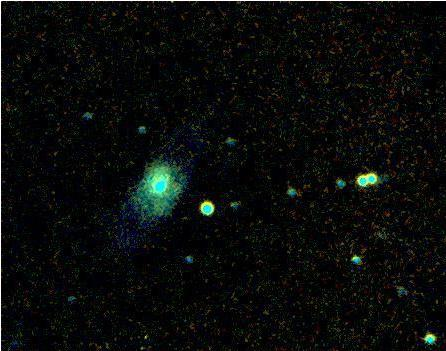star: (155, 166, 185, 196)
